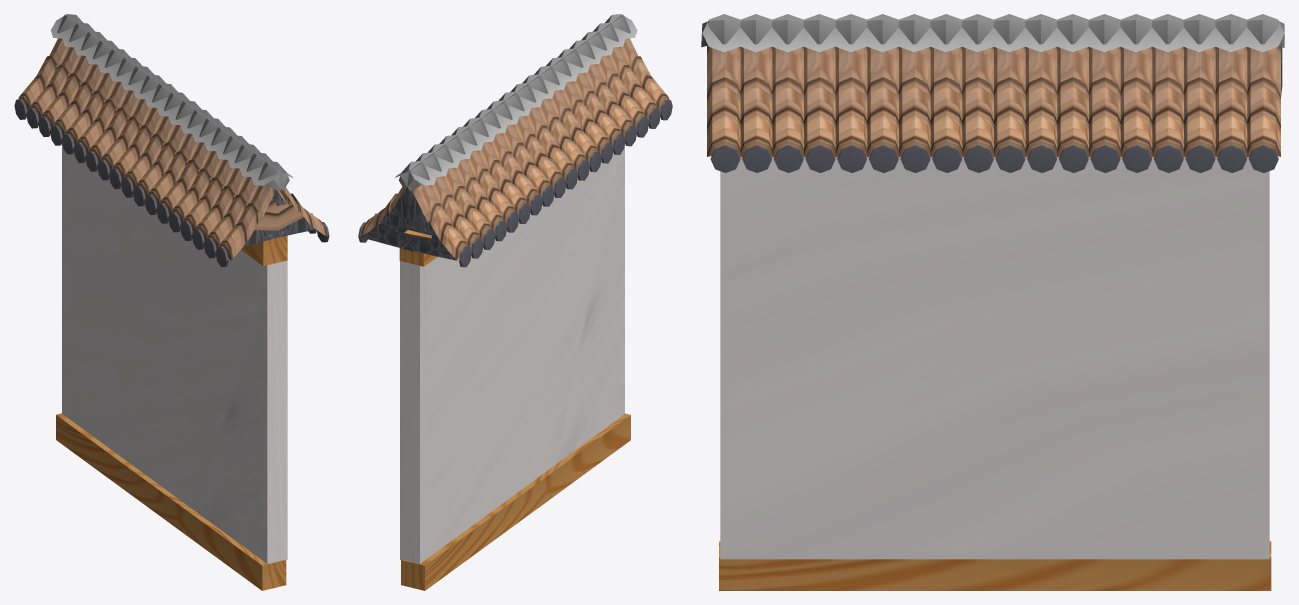
File: VoidWall.fbx
3 renders of one model, left to right at view 1: azimuth 30°, elevation 25°; view 2: azimuth 150°, elevation 25°; view 3: azimuth 270°, elevation 25°, orthographic. The views are drawn at different scales.
Parts seen in each view (by area): view 1: Cube.055; view 2: Cube.055; view 3: Cube.055.
Boxes of the visible parts, left/top/right/bottom form: Cube.055: left=14, top=14, right=329, bottom=590; Cube.055: left=358, top=14, right=672, bottom=590; Cube.055: left=701, top=14, right=1284, bottom=590.
Size of the model in its own units: 424 by 1665 by 1554.
